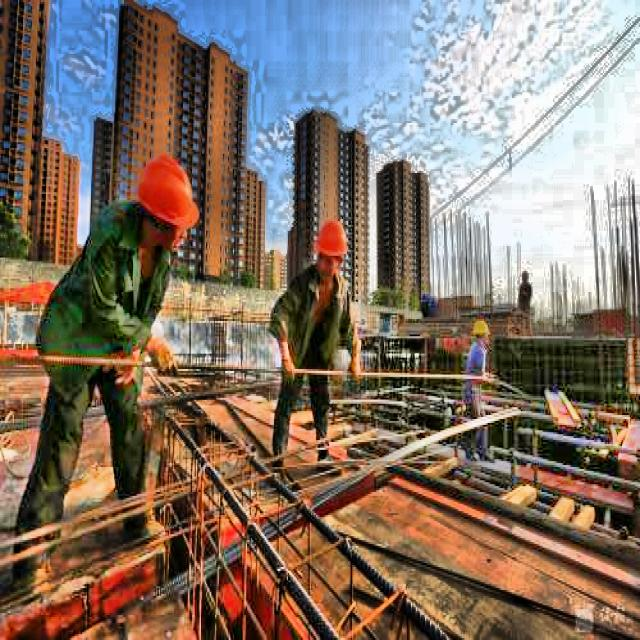helmet: (127, 150, 201, 261), (312, 213, 351, 290), (474, 311, 490, 352)
